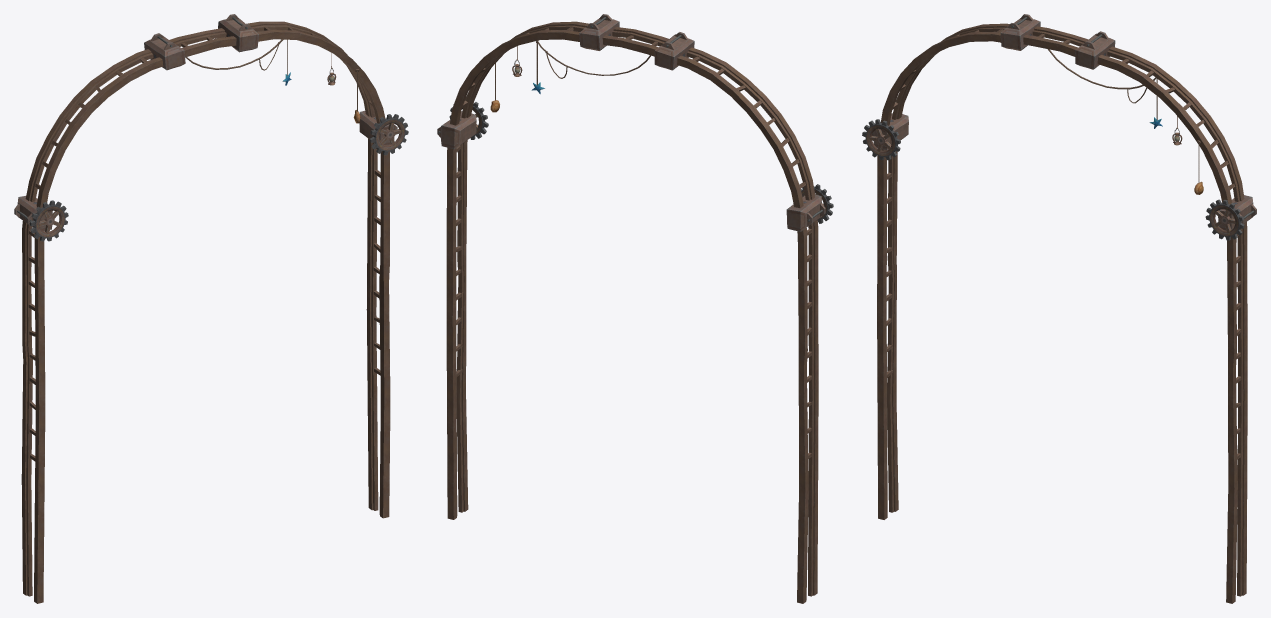
The model's file is Homeworld_Exterior_Fd_Decoration_Prop_BszDiaozhui_01_Lod0.fbx.
The picture shows the model from 3 angles, left to right: view 1: azimuth 30°, elevation 25°; view 2: azimuth 150°, elevation 25°; view 3: azimuth 330°, elevation 25°; orthographic projection.
Parts seen in each view (by area): view 1: Area_Fd_Build_Common_POI_Chuanwang_B_01_Lod0(Clone) (×2), Area_Fd_Build_Common_POI_Chuanwang_B_07_Vo(Clone) (×3), Area_Fd_Prop_YSZ_Chilun_01_Lod0(Clone) (×2), Area_Fd_Build_Common_POI_Chuanwang_B_04_Vo(Clone); view 2: Area_Fd_Build_Common_POI_Chuanwang_B_01_Lod0(Clone) (×2), Area_Fd_Build_Common_POI_Chuanwang_B_07_Vo(Clone) (×4), Area_Fd_Build_Common_POI_Chuanwang_B_04_Vo(Clone); view 3: Area_Fd_Build_Common_POI_Chuanwang_B_01_Lod0(Clone) (×2), Area_Fd_Build_Common_POI_Chuanwang_B_07_Vo(Clone) (×3), Area_Fd_Prop_YSZ_Chilun_01_Lod0(Clone) (×2), Area_Fd_Build_Common_POI_Chuanwang_B_04_Vo(Clone).
Boxes of the visible parts, x1=… form: Area_Fd_Build_Common_POI_Chuanwang_B_01_Lod0(Clone) (×2): x1=21, y1=21, x2=390, y2=603; Area_Fd_Build_Common_POI_Chuanwang_B_07_Vo(Clone) (×3): x1=14, y1=14, x2=258, y2=231; Area_Fd_Prop_YSZ_Chilun_01_Lod0(Clone) (×2): x1=29, y1=114, x2=408, y2=241; Area_Fd_Build_Common_POI_Chuanwang_B_04_Vo(Clone): x1=169, y1=28, x2=236, y2=57; Area_Fd_Build_Common_POI_Chuanwang_B_01_Lod0(Clone) (×2): x1=446, y1=21, x2=818, y2=603; Area_Fd_Build_Common_POI_Chuanwang_B_07_Vo(Clone) (×4): x1=437, y1=14, x2=825, y2=231; Area_Fd_Build_Common_POI_Chuanwang_B_04_Vo(Clone): x1=602, y1=27, x2=668, y2=56; Area_Fd_Build_Common_POI_Chuanwang_B_01_Lod0(Clone) (×2): x1=877, y1=23, x2=1247, y2=603; Area_Fd_Build_Common_POI_Chuanwang_B_07_Vo(Clone) (×3): x1=1000, y1=14, x2=1256, y2=230; Area_Fd_Prop_YSZ_Chilun_01_Lod0(Clone) (×2): x1=862, y1=119, x2=1244, y2=240; Area_Fd_Build_Common_POI_Chuanwang_B_04_Vo(Clone): x1=1023, y1=26, x2=1088, y2=56.
Bounding box in the file's own units: 32.64 × 43.39 × 3.71.
